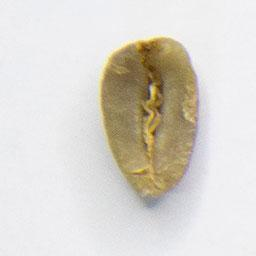longberry: (97, 33, 202, 202)
